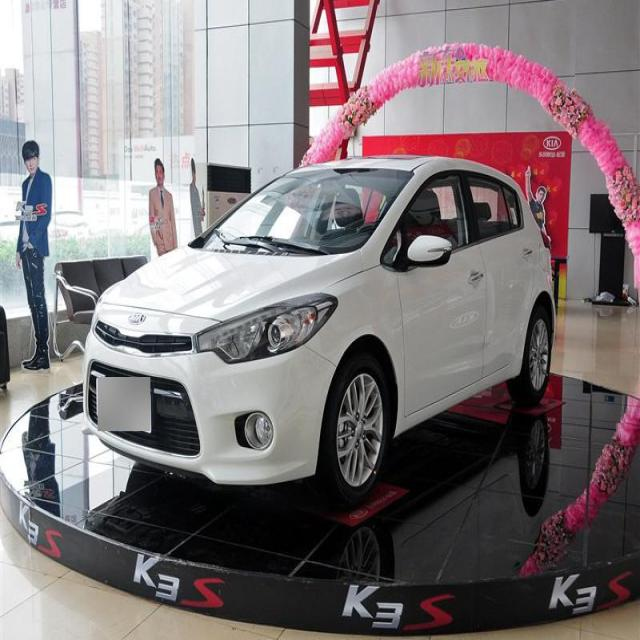door: (459, 167, 534, 371)
front_bumper: (82, 326, 340, 490)
front_glass: (190, 165, 416, 254)
front_left_side_door: (394, 165, 491, 423)
front_left_side_light: (191, 288, 339, 367)
front_right_side_mirror: (401, 231, 454, 270)
wheel: (314, 359, 392, 514), (508, 301, 550, 412)
